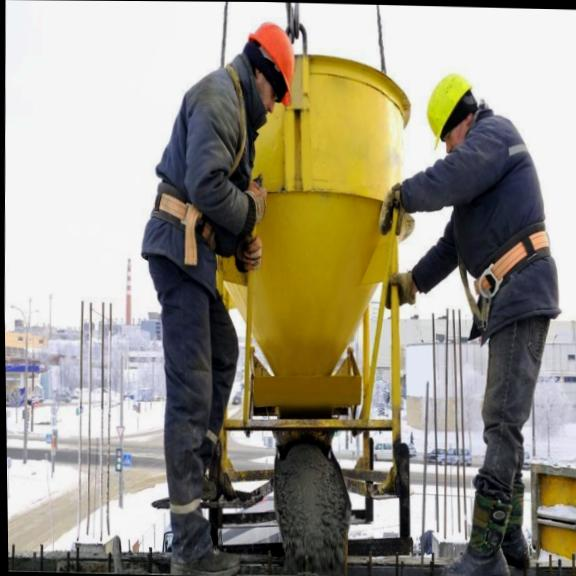no_safety_vest: (160, 58, 258, 247), (445, 112, 538, 266)
